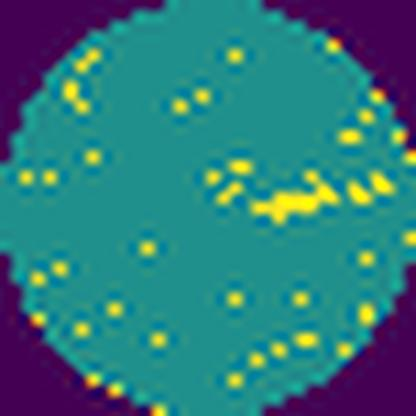Loc: (248, 167, 339, 222)
